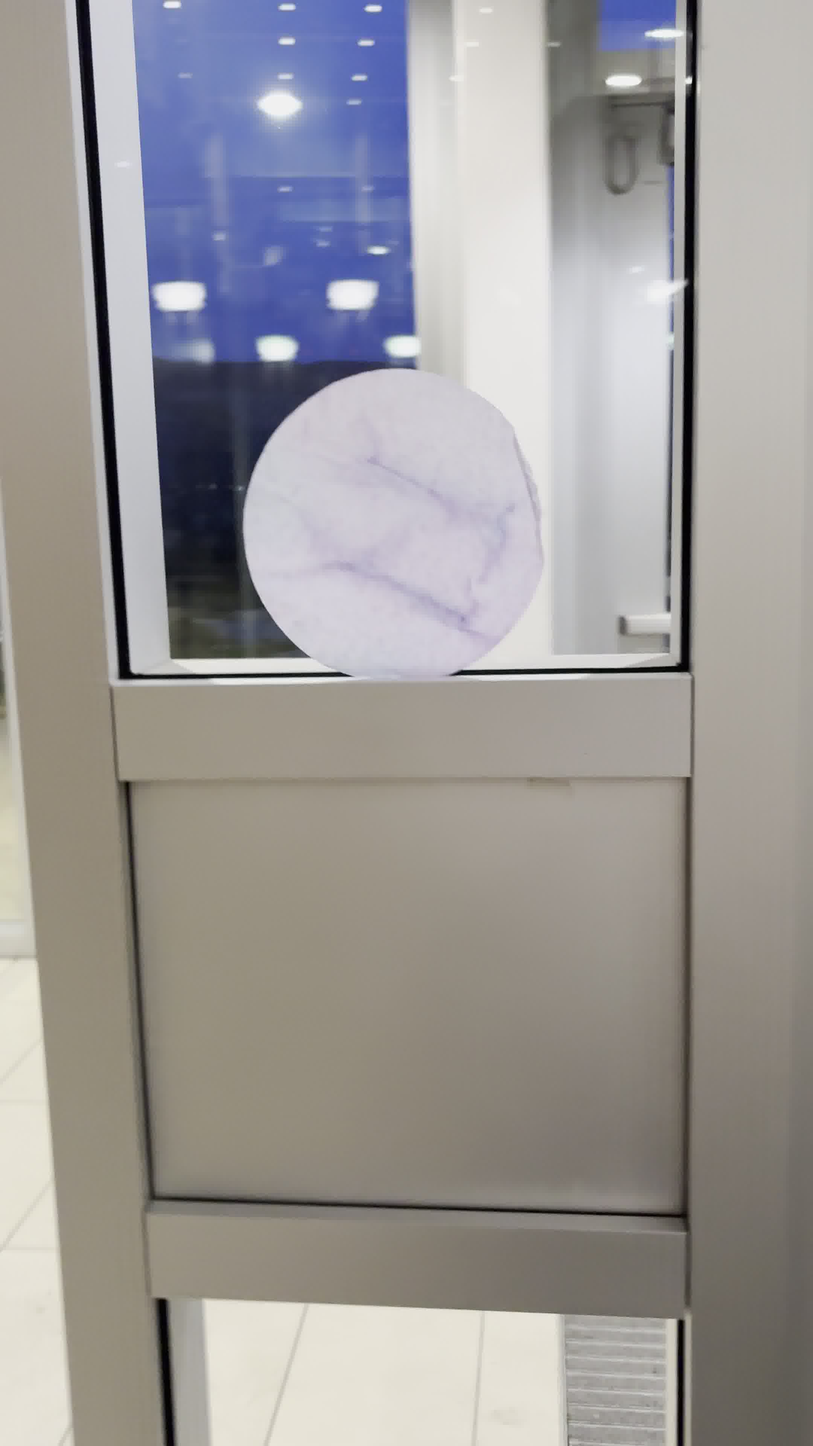Target: (238, 367, 554, 686)
